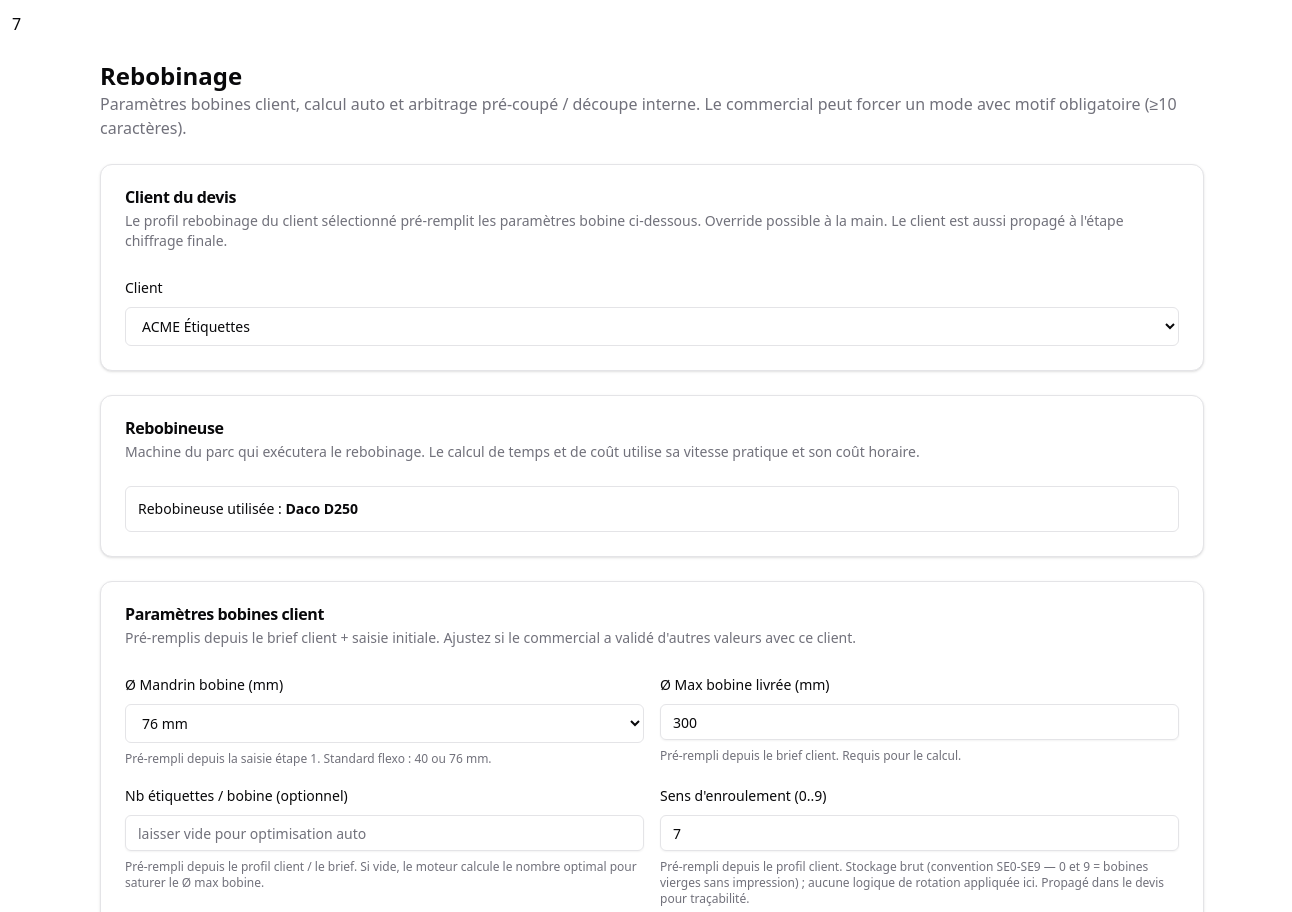
OptimisationRebobinage — Sprint 16 Lot D câblage › sens_enroulement : pré-rempli depuis le profil → présent dans le store, override propagé
Expected: the text with test id "store-sens" reads "7", top-left (12, 13), bottom-right (21, 35)
Replace the text in the number field with test id "sens-enroulement-input" with "2" at point(920, 833), box top-left (660, 815), bottom-right (1179, 851)
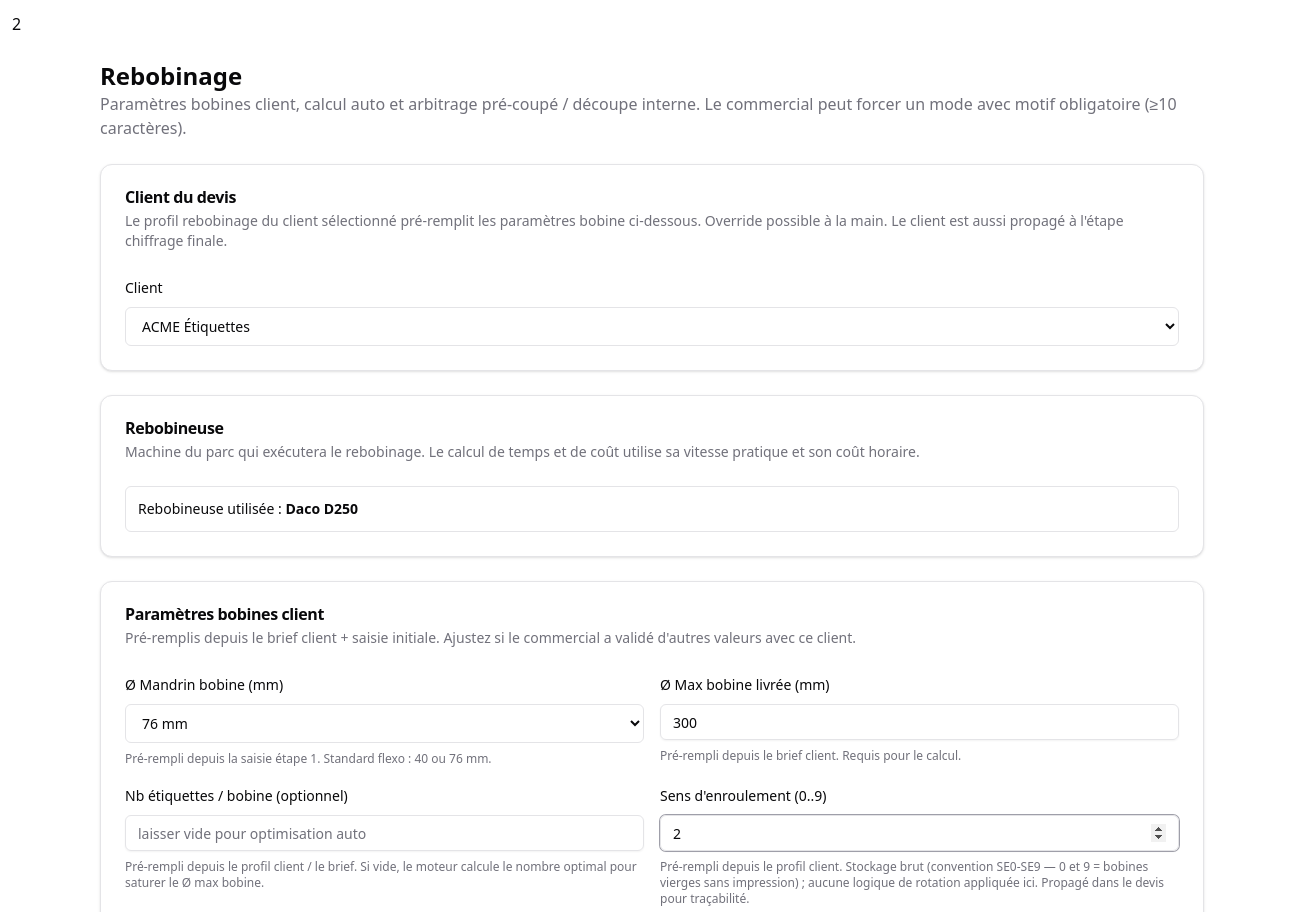
Result: the text with test id "store-sens" reads "2" at top-left (12, 13), bottom-right (21, 35)
